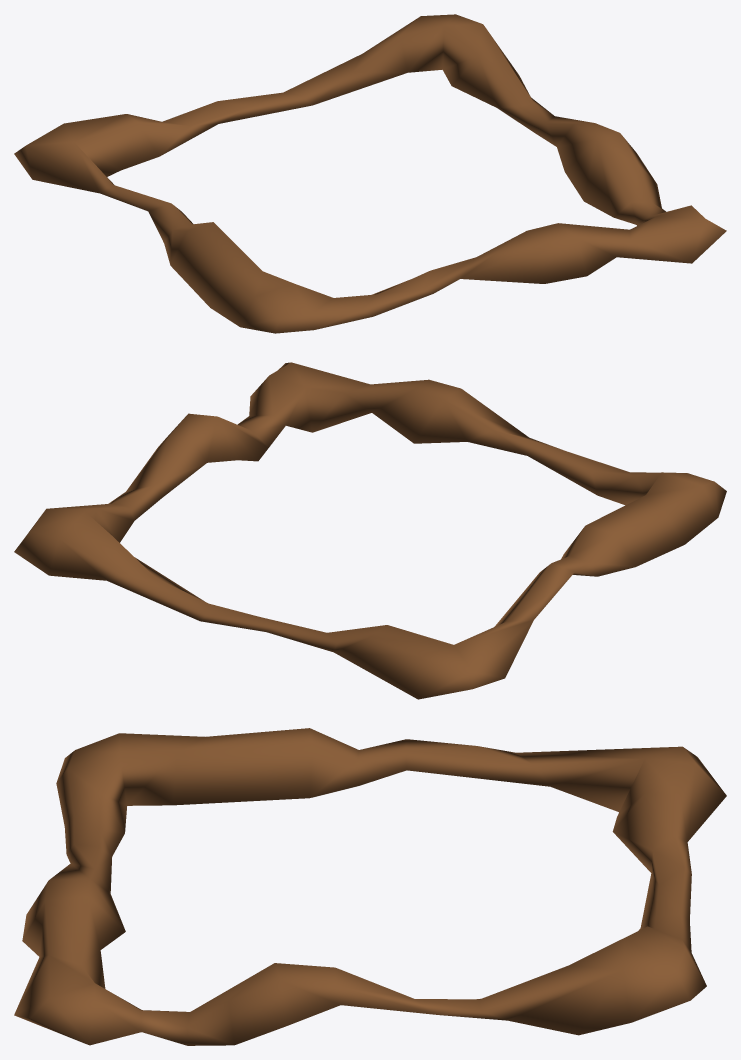
The model's file is Soil_Rim.fbx.
The picture shows the model from 3 angles, top to bottom: view 1: azimuth 30°, elevation 25°; view 2: azimuth 150°, elevation 25°; view 3: azimuth 270°, elevation 25°; orthographic projection. The views are drawn at different scales.
Parts seen in each view (by area): view 1: Soil.001; view 2: Soil.001; view 3: Soil.001.
Part boxes in pixels (<box>): Soil.001: <box>14,14,726,333</box>; Soil.001: <box>14,362,726,699</box>; Soil.001: <box>14,728,726,1045</box>.
Size of the model in its own units: 1.24 by 0.1858 by 1.31.
